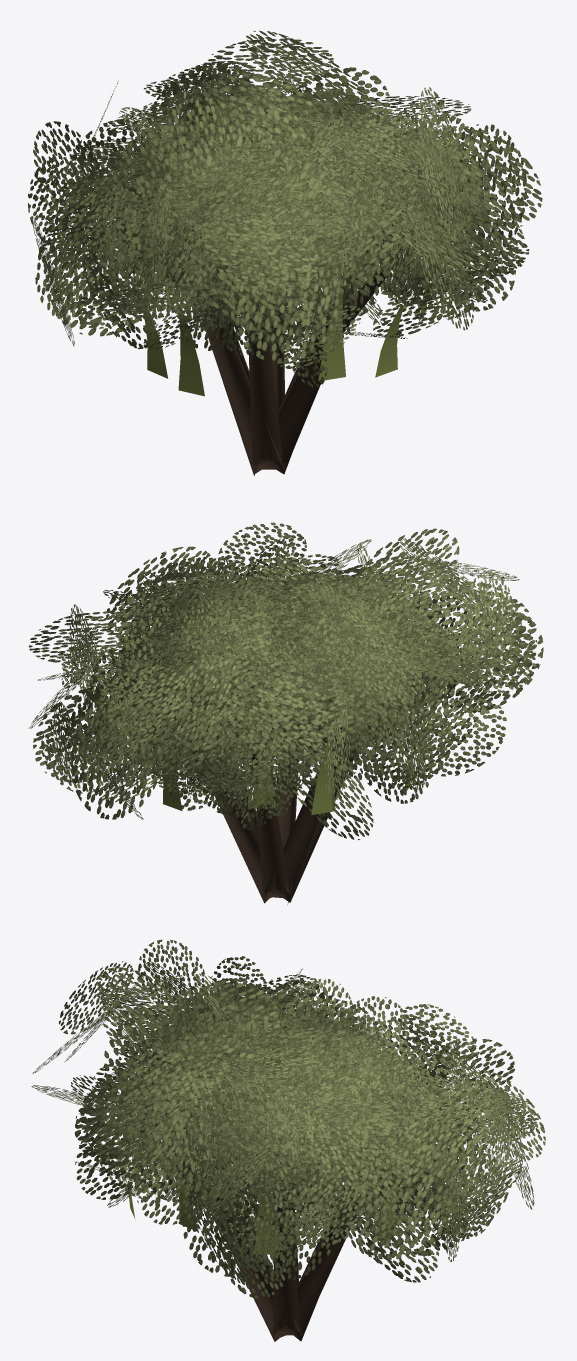
The model's file is caral_pacae_lod0.glb.
The picture shows the model from 3 angles, top to bottom: view 1: azimuth 30°, elevation 25°; view 2: azimuth 150°, elevation 25°; view 3: azimuth 270°, elevation 25°; orthographic projection. The views are drawn at different scales.
Parts seen in each view (by area): view 1: GEO-Kit_pacae_LOD0; view 2: GEO-Kit_pacae_LOD0; view 3: GEO-Kit_pacae_LOD0.
Boxes of the visible parts, <box> form: GEO-Kit_pacae_LOD0: <box>27,30,542,475</box>; GEO-Kit_pacae_LOD0: <box>28,522,543,904</box>; GEO-Kit_pacae_LOD0: <box>31,939,545,1341</box>.
Bounding box in the file's own units: 1.92 × 1.47 × 2.07.
Materials: 3 (1 with a texture image).
